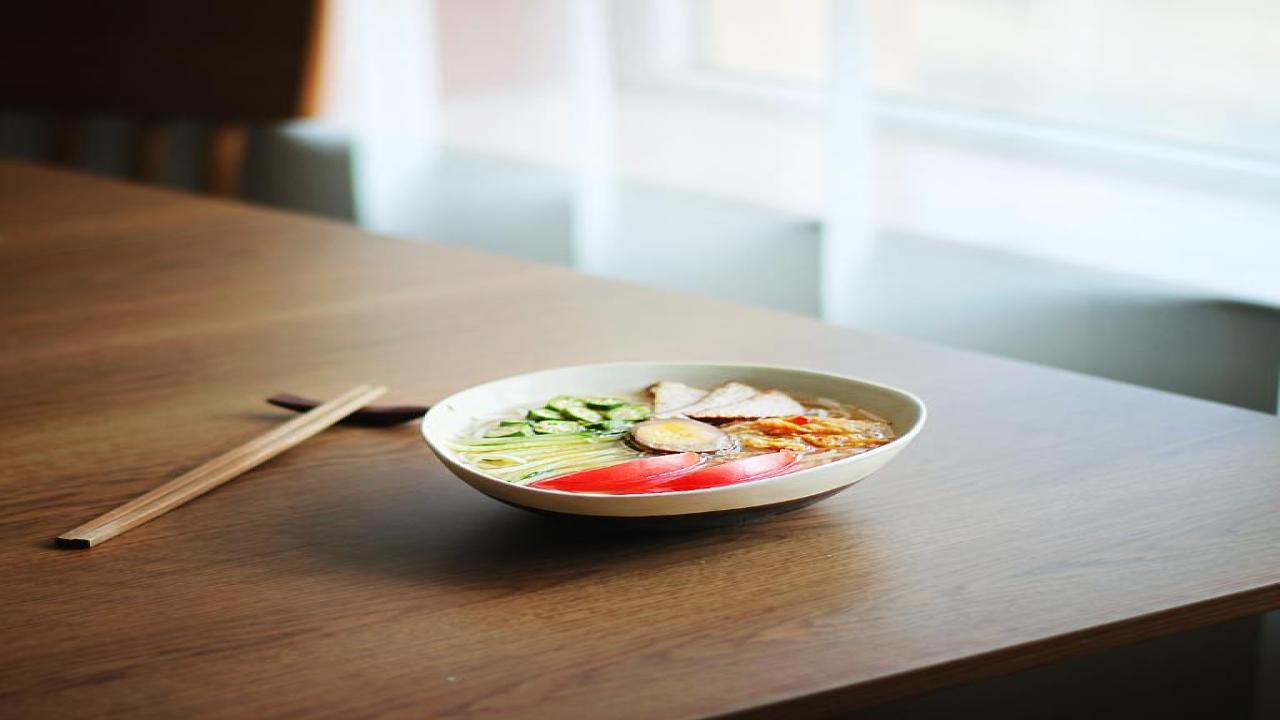chopstick: (61, 383, 387, 547)
